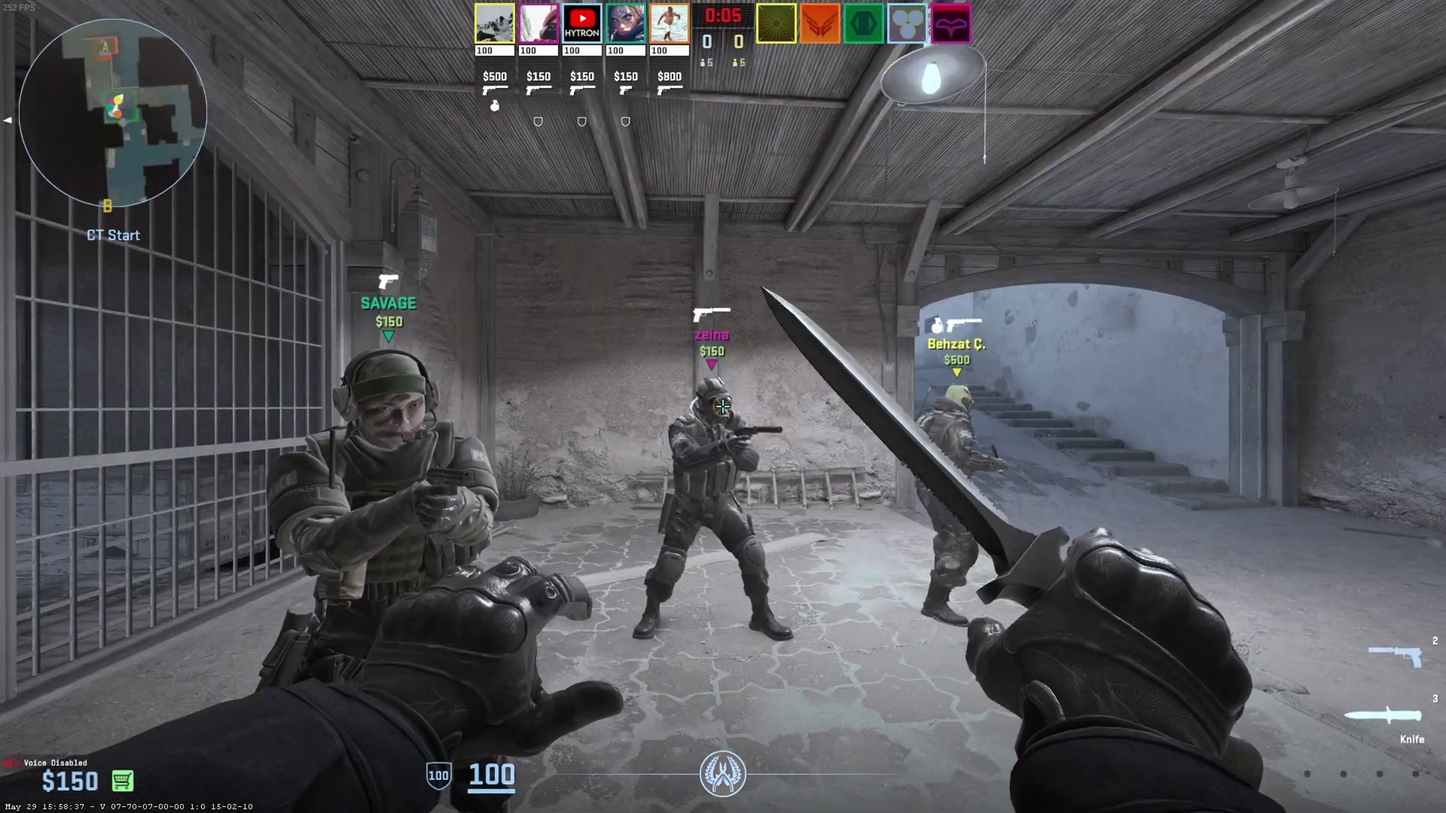CT: (282, 347, 479, 678), (634, 378, 792, 641), (913, 383, 981, 617)
